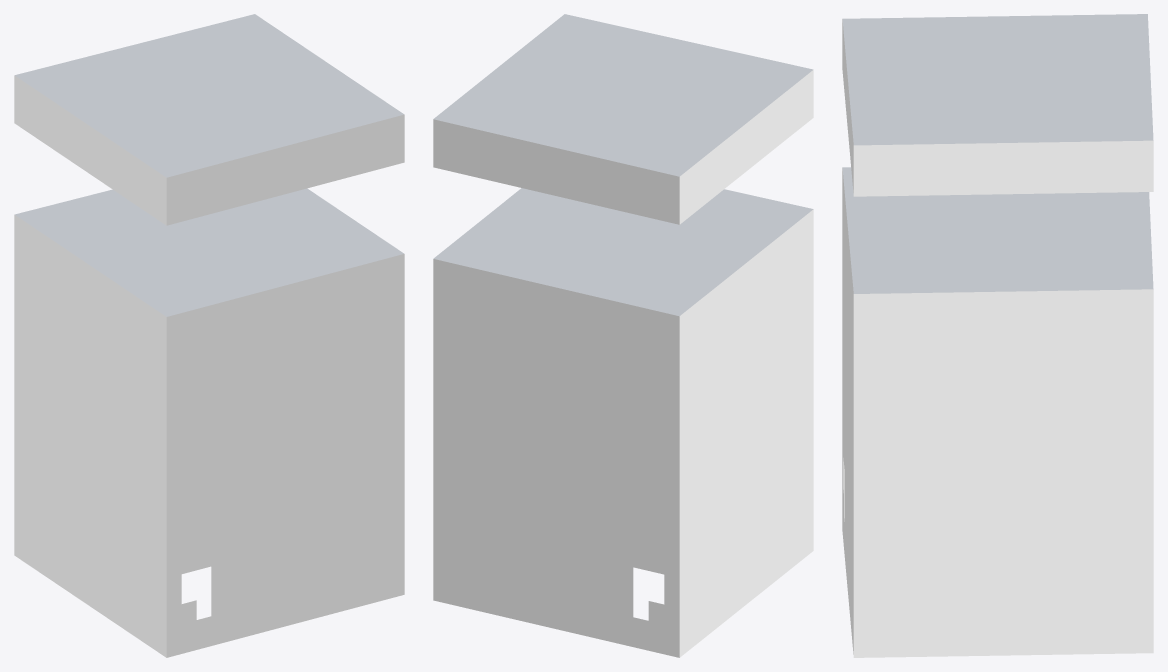
File: uvmd-0128.glb
The picture shows the model from 3 angles, left to right: view 1: azimuth 30°, elevation 25°; view 2: azimuth 150°, elevation 25°; view 3: azimuth 270°, elevation 25°; orthographic projection. The views are drawn at different scales.
Visible parts, largest first — view 1: uvmd-0128; view 2: uvmd-0128; view 3: uvmd-0128.
Part boxes in pixels (bbox=[...]): uvmd-0128: bbox=[14, 14, 404, 657]; uvmd-0128: bbox=[433, 14, 813, 657]; uvmd-0128: bbox=[842, 14, 1153, 657].
Bounding box in the file's own units: 55 × 100 × 55.
Materials: 3 (3 with a texture image).
